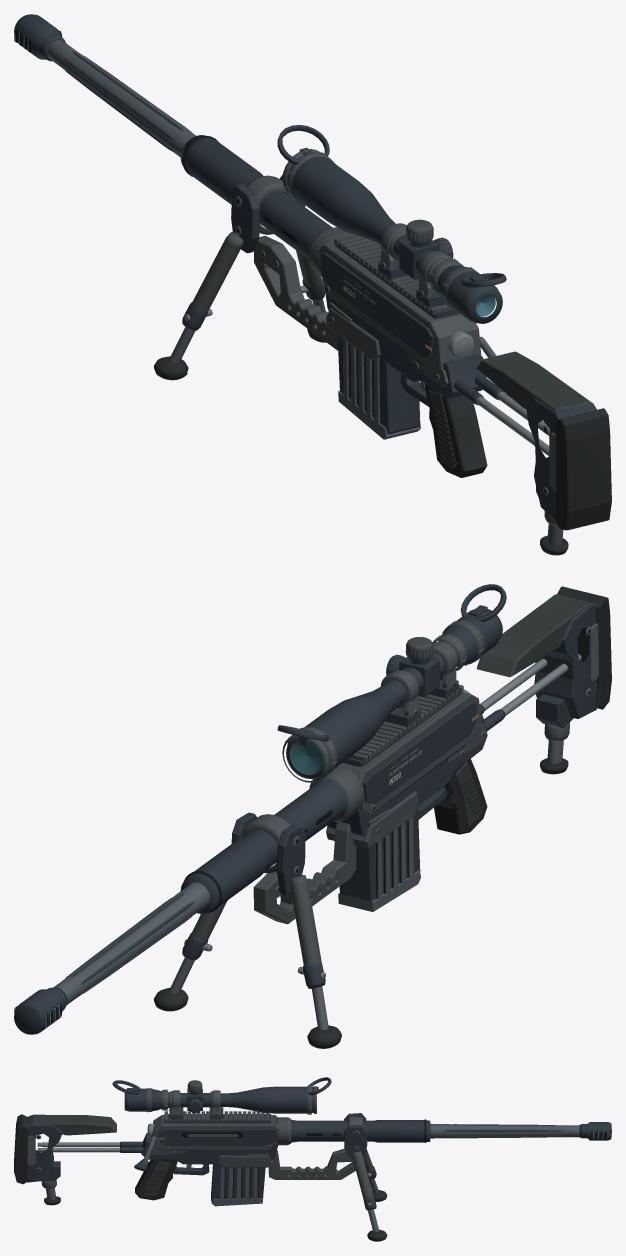
3 renders of one model, top to bottom at view 1: azimuth 30°, elevation 25°; view 2: azimuth 150°, elevation 25°; view 3: azimuth 270°, elevation 25°, orthographic. The views are drawn at different scales.
Visible parts, largest first — view 1: Optic / Blue-black satin, Frame / Graphite ceramic coating, Frame / Blue-black satin, Barrel / Blue-black satin, Stock / Molded grip rubber, Barrel / Graphite ceramic coating, Stock / Textured stock polymer, Barrel / Brushed gunmetal, Frame / Molded grip rubber, Optic / Graphite ceramic coating, Magazine / Blue-black satin, Stock / Blue-black satin (+9 smaller); view 2: Optic / Blue-black satin, Barrel / Blue-black satin, Frame / Blue-black satin, Frame / Graphite ceramic coating, Stock / Blue-black satin, Barrel / Graphite ceramic coating, Stock / Textured stock polymer, Barrel / Brushed gunmetal, Optic / Graphite ceramic coating, Bipod / Graphite ceramic coating, Bipod / Blue-black satin, Stock / Molded grip rubber (+12 smaller); view 3: Optic / Blue-black satin, Frame / Blue-black satin, Barrel / Blue-black satin, Frame / Graphite ceramic coating, Barrel / Graphite ceramic coating, Barrel / Brushed gunmetal, Stock / Blue-black satin, Stock / Textured stock polymer, Magazine / Brushed gunmetal, Optic / Graphite ceramic coating, Stock / Molded grip rubber, Magazine / Blue-black satin (+13 smaller).
Boxes of the visible parts, x1,y1,x2,y2 form: Optic / Blue-black satin: (277,125,506,323); Frame / Graphite ceramic coating: (318,234,481,387); Frame / Blue-black satin: (320,244,486,406); Barrel / Blue-black satin: (63,51,332,259); Stock / Molded grip rubber: (540,408,611,555); Barrel / Graphite ceramic coating: (253,227,351,350); Stock / Textured stock polymer: (477,351,590,411); Barrel / Brushed gunmetal: (47,40,278,267); Frame / Molded grip rubber: (424,383,487,477); Optic / Graphite ceramic coating: (282,149,479,310); Magazine / Blue-black satin: (337,335,420,434); Stock / Blue-black satin: (454,374,596,520); Optic / Blue-black satin: (277,584,506,778); Barrel / Blue-black satin: (66,779,347,994); Frame / Blue-black satin: (327,692,487,836); Frame / Graphite ceramic coating: (326,684,486,848); Stock / Blue-black satin: (479,594,597,731); Barrel / Graphite ceramic coating: (253,766,364,924); Stock / Textured stock polymer: (476,594,590,677); Barrel / Brushed gunmetal: (54,882,279,1005); Optic / Graphite ceramic coating: (282,620,484,782); Bipod / Graphite ceramic coating: (191,814,321,964); Bipod / Blue-black satin: (182,812,325,988); Stock / Molded grip rubber: (540,586,611,774); Optic / Blue-black satin: (112,1077,331,1119); Frame / Blue-black satin: (141,1114,278,1175); Barrel / Blue-black satin: (291,1120,563,1142); Frame / Graphite ceramic coating: (145,1111,280,1167); Barrel / Graphite ceramic coating: (268,1117,364,1179); Barrel / Brushed gunmetal: (336,1123,579,1158); Stock / Blue-black satin: (26,1115,143,1182); Stock / Textured stock polymer: (31,1114,116,1135); Magazine / Brushed gunmetal: (211,1166,263,1206); Optic / Graphite ceramic coating: (146,1080,316,1114); Stock / Molded grip rubber: (14,1114,60,1205); Magazine / Blue-black satin: (211,1164,265,1201).
Bounding box in the file's own units: 0.2323 × 0.3197 × 1.24.
Materials: 10 (1 with a texture image).
